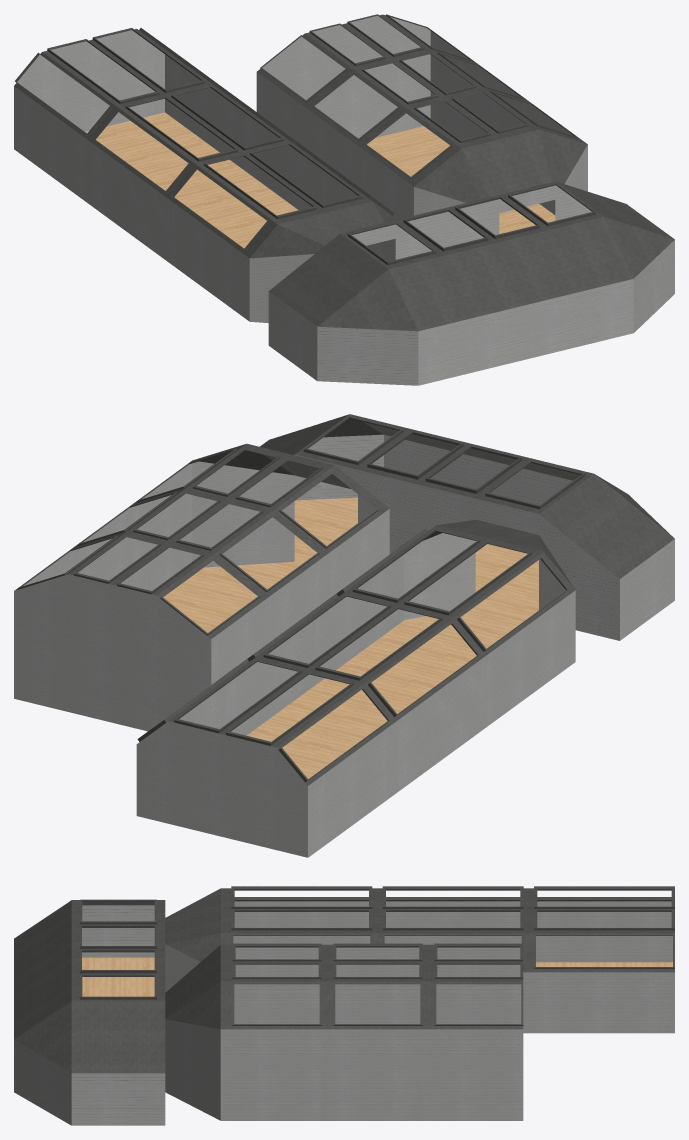
Rendered from GalerieV4.dae.
The picture shows the model from 3 angles, top to bottom: view 1: azimuth 30°, elevation 25°; view 2: azimuth 150°, elevation 25°; view 3: azimuth 270°, elevation 25°; orthographic projection. The views are drawn at different scales.
Visible parts, largest first — view 1: receptionRoom_roof, receptionRoom_wall, showRoom_painting_end_segment_wall, showRoom_sculpture_end_segment_wall, showRoom_sculpture_beginning_segment_roof, showRoom_painting_middle_segment_wall, showRoom_painting_beginning_segment_wall, showRoom_painting_beginning_segment_roof, showRoom_painting_end_segment_floor, showRoom_painting_middle_segment_floor, showRoom_sculpture_beginning_segment_wall, showRoom_sculpture_middle_segment_wall (+13 smaller); view 2: showRoom_sculpture_end_segment_wall, showRoom_painting_end_segment_wall, receptionRoom_wall, showRoom_painting_beginning_segment_wall, showRoom_sculpture_beginning_segment_wall, receptionRoom_roof, showRoom_painting_middle_segment_wall, showRoom_painting_beginning_segment_floor, receptionRoom_floor, showRoom_painting_middle_segment_floor, showRoom_sculpture_middle_segment_wall, showRoom_painting_beginning_segment_roof (+13 smaller); view 3: showRoom_sculpture_beginning_segment_wall, receptionRoom_roof, showRoom_painting_end_segment_wall, showRoom_sculpture_middle_segment_wall, showRoom_sculpture_end_segment_wall, receptionRoom_wall, showRoom_sculpture_beginning_segment_roof, showRoom_painting_beginning_segment_wall, showRoom_painting_beginning_segment_roof, showRoom_painting_middle_segment_wall, showRoom_painting_end_segment_windowBorder, showRoom_painting_end_segment_roof (+11 smaller).
Part boxes in pixels (<box>): receptionRoom_roof: <box>269,181,674,331</box>; receptionRoom_wall: <box>268,185,674,385</box>; showRoom_painting_end_segment_wall: <box>14,30,243,206</box>; showRoom_sculpture_end_segment_wall: <box>256,16,482,149</box>; showRoom_sculpture_beginning_segment_roof: <box>362,91,587,202</box>; showRoom_painting_middle_segment_wall: <box>92,112,322,263</box>; showRoom_painting_beginning_segment_wall: <box>171,169,395,323</box>; showRoom_painting_beginning_segment_roof: <box>171,144,397,258</box>; showRoom_painting_end_segment_floor: <box>85,112,243,189</box>; showRoom_painting_middle_segment_floor: <box>163,170,298,246</box>; showRoom_sculpture_beginning_segment_wall: <box>361,108,587,219</box>; showRoom_sculpture_middle_segment_wall: <box>309,69,535,188</box>; showRoom_sculpture_end_segment_wall: <box>14,550,270,731</box>; showRoom_painting_end_segment_wall: <box>136,685,397,857</box>; receptionRoom_wall: <box>294,434,674,640</box>; showRoom_painting_beginning_segment_wall: <box>315,533,575,726</box>; showRoom_sculpture_beginning_segment_wall: <box>133,461,389,597</box>; receptionRoom_roof: <box>260,414,674,578</box>; showRoom_painting_middle_segment_wall: <box>226,620,486,792</box>; showRoom_painting_beginning_segment_floor: <box>315,606,527,707</box>; receptionRoom_floor: <box>294,497,538,618</box>; showRoom_painting_middle_segment_floor: <box>247,685,405,772</box>; showRoom_sculpture_middle_segment_wall: <box>73,507,330,640</box>; showRoom_painting_beginning_segment_roof: <box>347,519,575,655</box>; showRoom_sculpture_beginning_segment_wall: <box>165,947,321,1120</box>; receptionRoom_roof: <box>14,900,165,1073</box>; showRoom_painting_end_segment_wall: <box>523,901,674,1033</box>; showRoom_sculpture_middle_segment_wall: <box>321,947,422,1120</box>; showRoom_sculpture_end_segment_wall: <box>422,947,523,1120</box>; receptionRoom_wall: <box>14,905,165,1125</box>; showRoom_sculpture_beginning_segment_roof: <box>165,944,321,1029</box>; showRoom_painting_beginning_segment_wall: <box>165,901,370,992</box>; showRoom_painting_beginning_segment_roof: <box>165,888,372,961</box>; showRoom_painting_middle_segment_wall: <box>384,901,523,1032</box>; showRoom_painting_end_segment_windowBorder: <box>534,886,674,968</box>; showRoom_painting_end_segment_roof: <box>523,888,674,972</box>.
Size of the model in its own units: 17.32 by 28.79 by 5.71.
4 materials, 4 textured.
